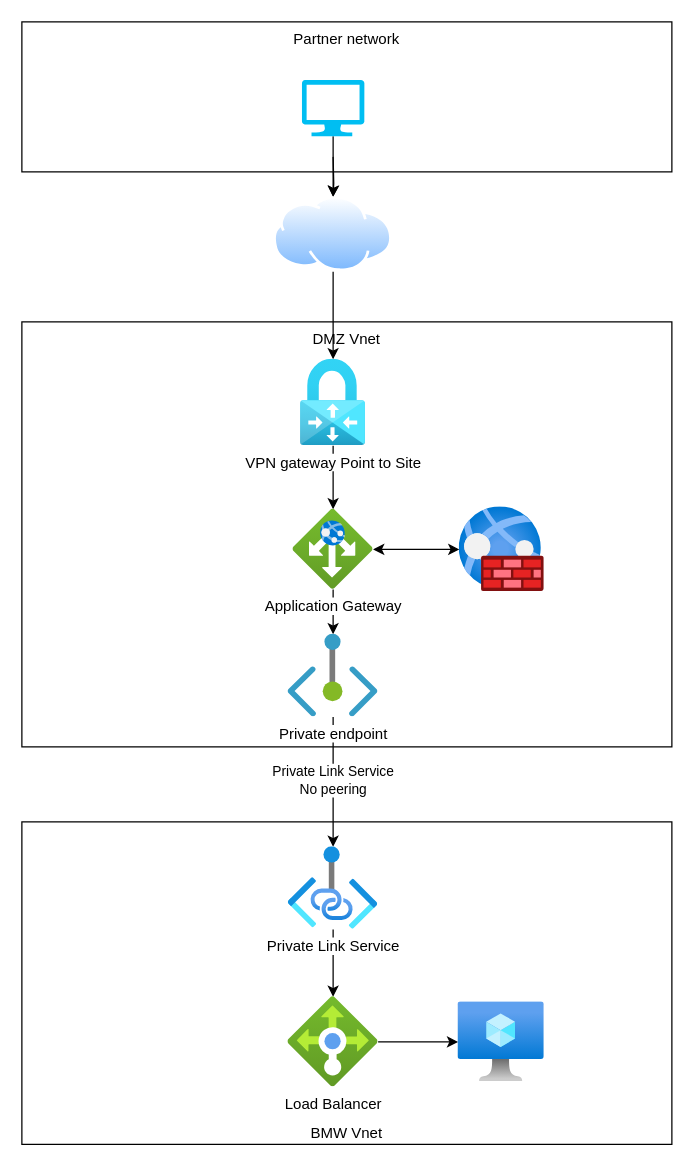
Image size: 694x1166. Some labels were removed from this diagram. The shapes that lost their labels are listed below. From the top down, each one's centre as x and y in pixels, then its label:
At pixel 332 107: "VPN client".
At pixel 332 233: "Internet".
At pixel 501 548: "Web Application Firewall".
At pixel 501 1041: "SVN Server".
